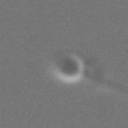abnormal: (83, 59, 128, 104)
